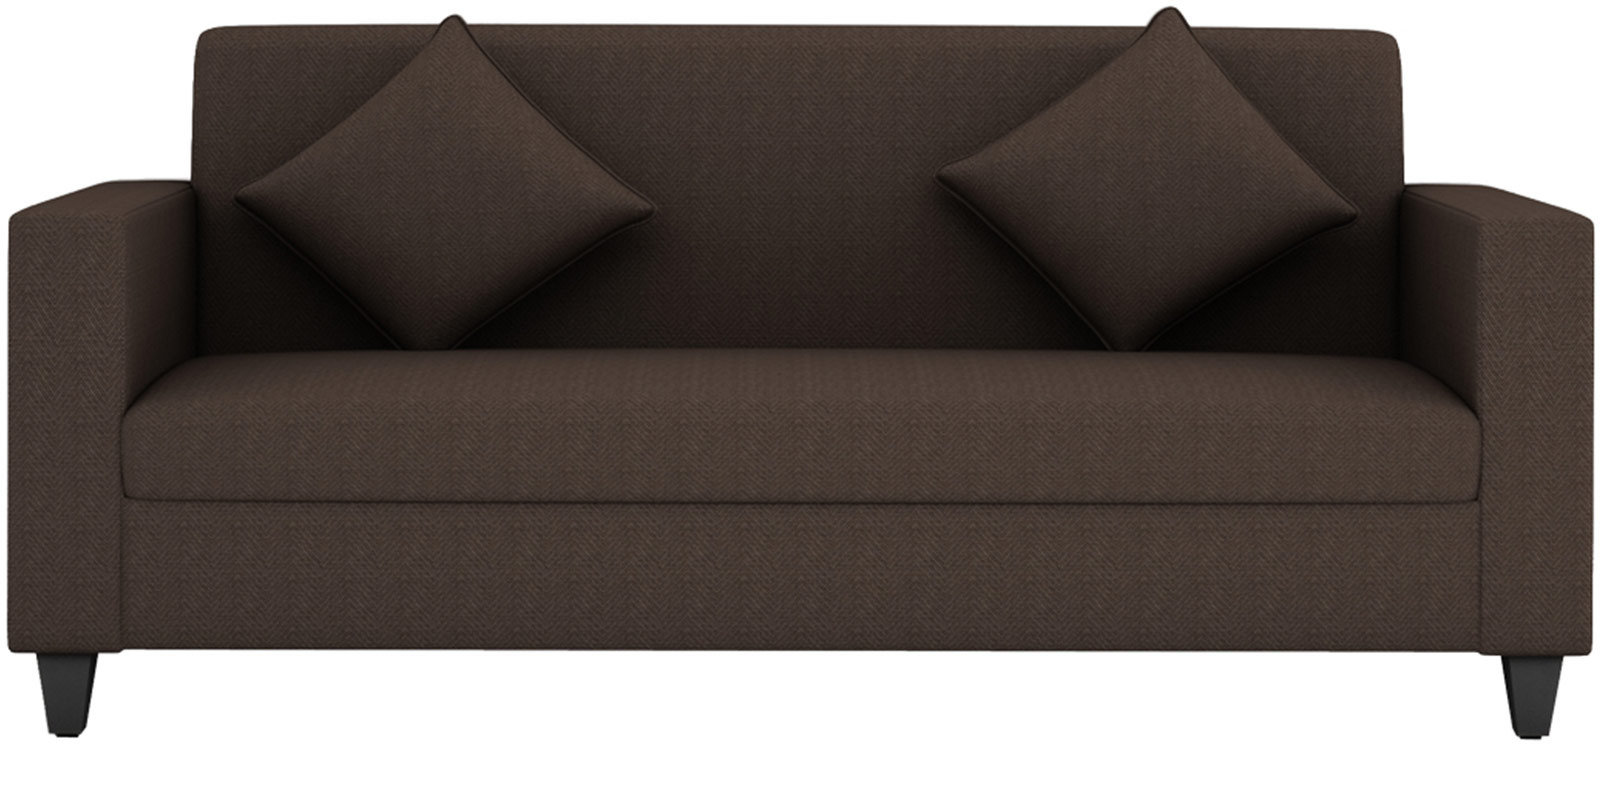Cooper Three Seater Sofa by ARRA: (9, 9, 1600, 722)
